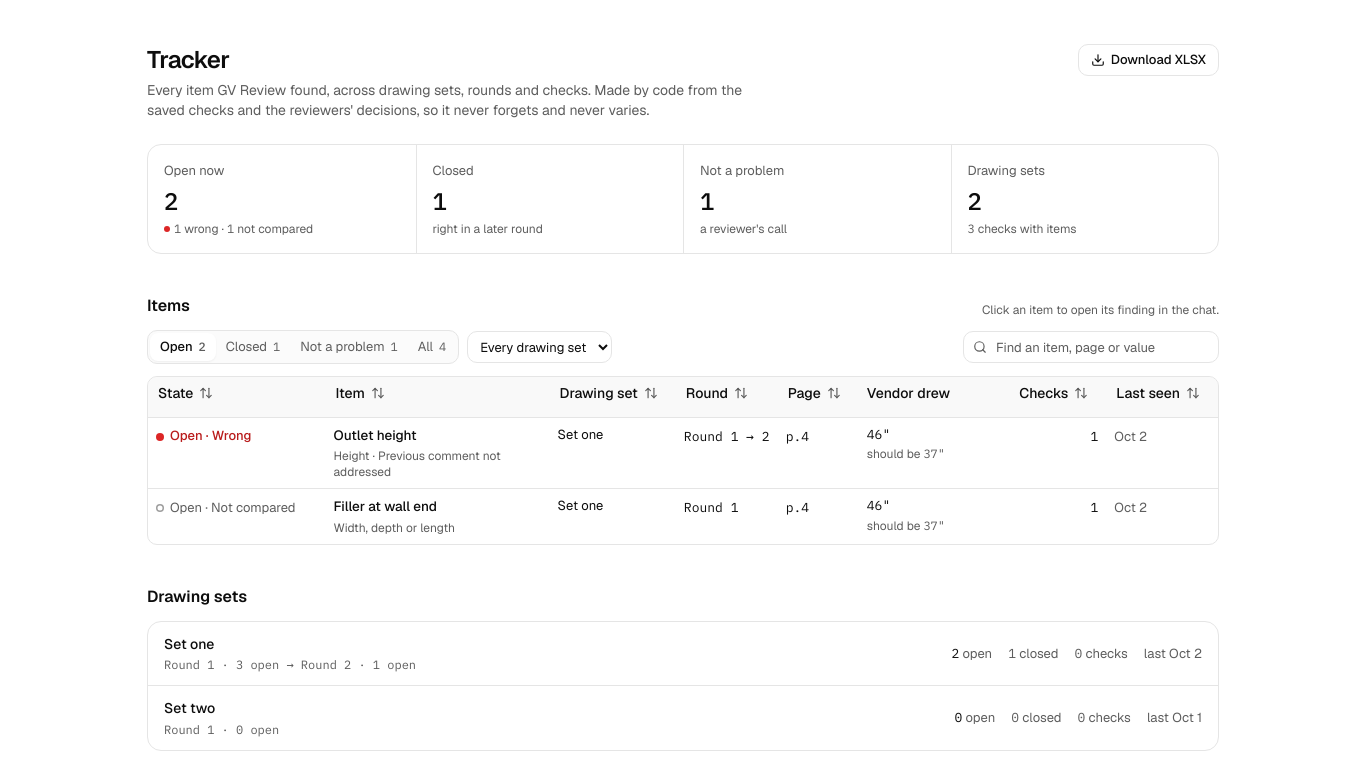
Test case: the tracker page (#1578) › shows the sets and the vendor scorecard
This screenshot has width=1366, height=780.
Expected: the text "Round 1 · 3 open → Round 2 · 1 open" is shown, [164, 658, 416, 672]
Click the button "Set two". click: {"x": 190, "y": 708}
box: [164, 698, 930, 720]
(page scrolled)
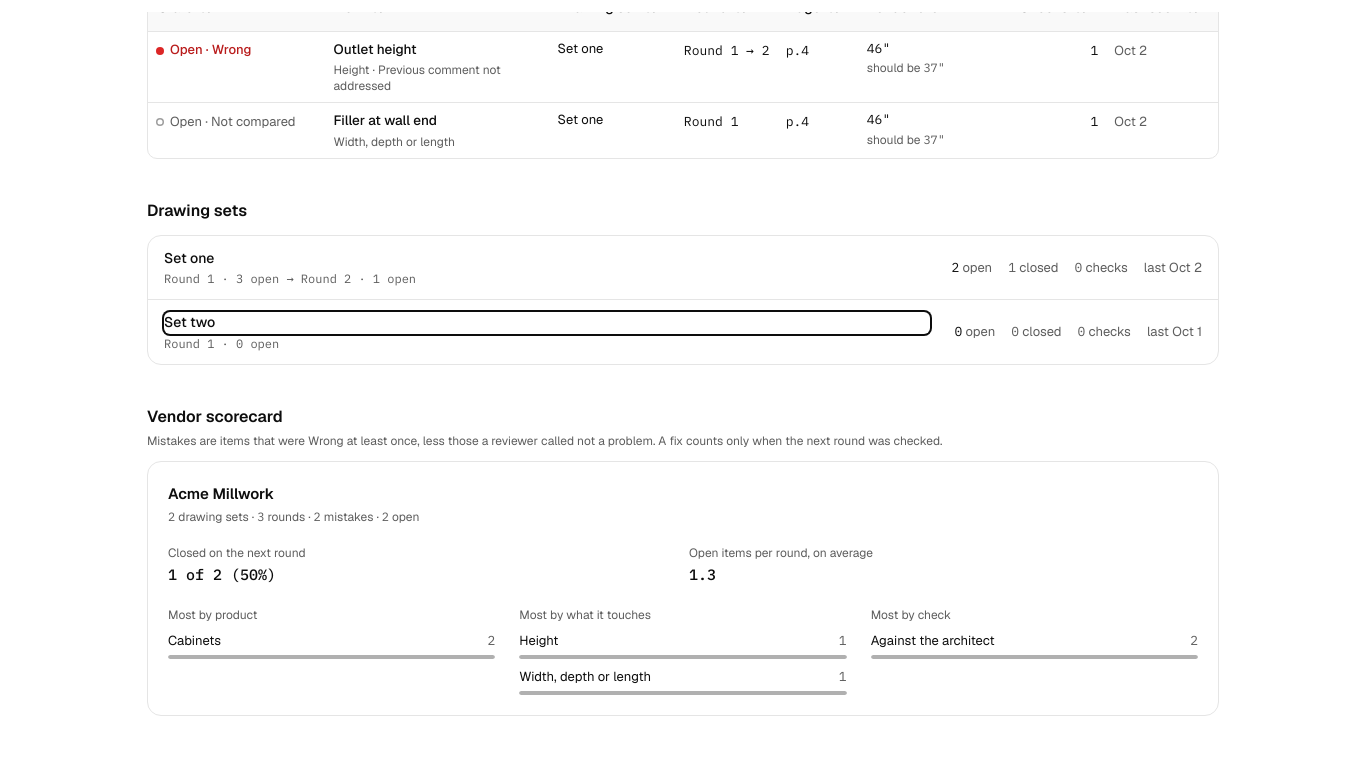
Expected: the text "1 of 2 (50%)" is shown, [168, 565, 276, 584]
Expected: the text "1.3" is shown, [689, 565, 716, 584]
Expected: the text "Width, depth or length" below "Most by what it touches" is shown, [519, 668, 651, 685]
